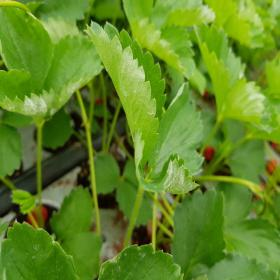Powdery Mildew Leaf: (83, 19, 167, 177), (132, 129, 201, 195), (0, 68, 77, 121), (43, 33, 104, 95), (220, 76, 279, 134), (97, 243, 184, 279)
